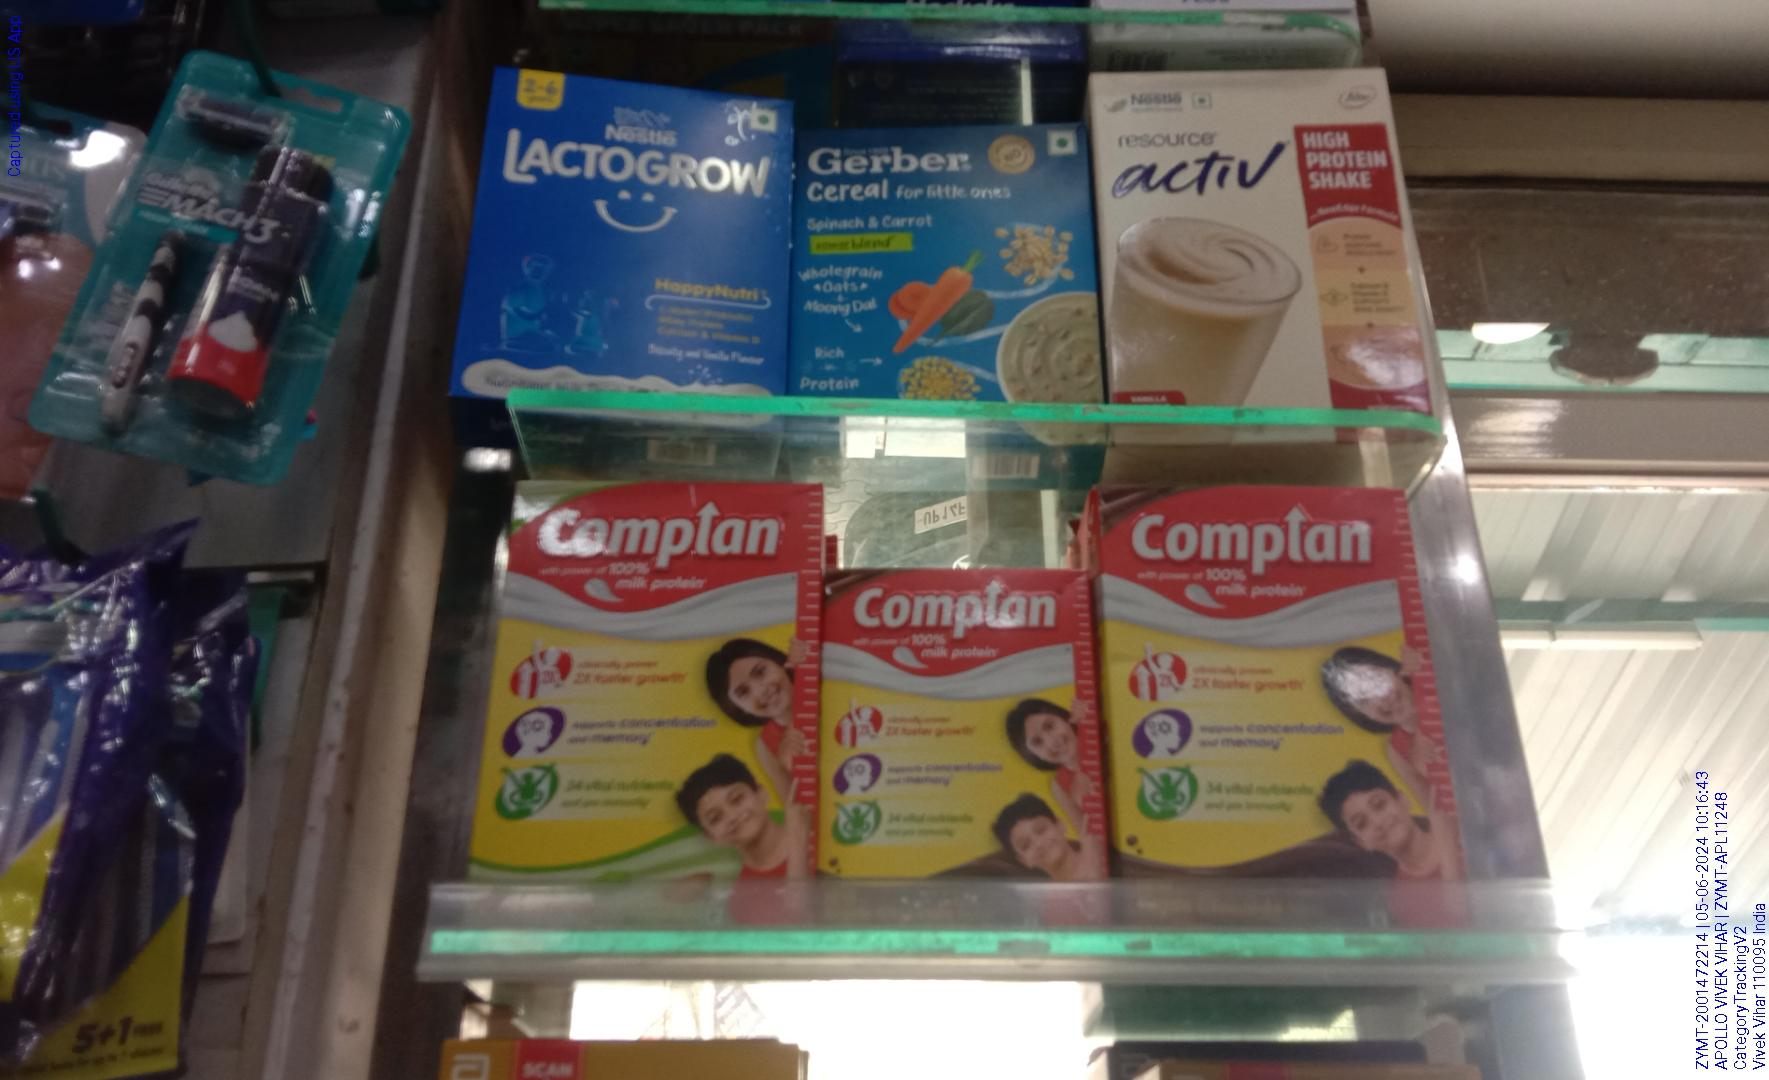COMPLAN_CHOCOLATE_200_GMS_PACK: (830, 566, 1101, 888)
COMPLAN_CHOCOLATE_500_GMS_PACK: (1109, 488, 1435, 899)
COMPLAN_PISTA_BADAM_500_GMS_PACK: (490, 475, 824, 904)
